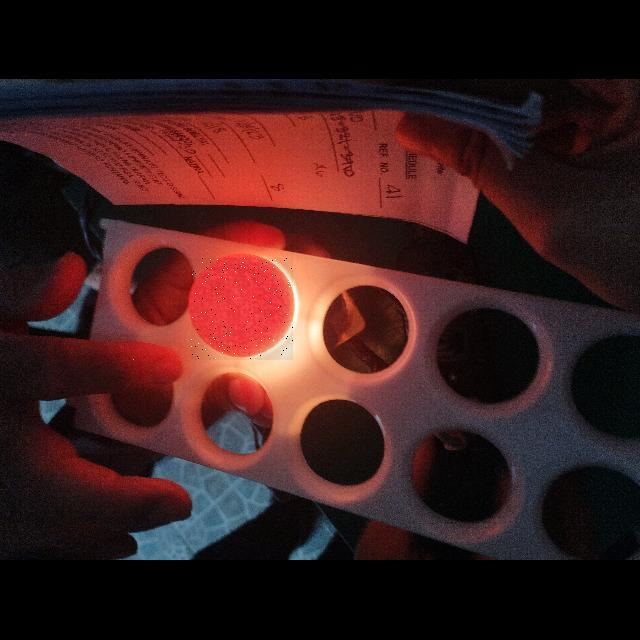Infertile: (191, 258, 293, 360)
